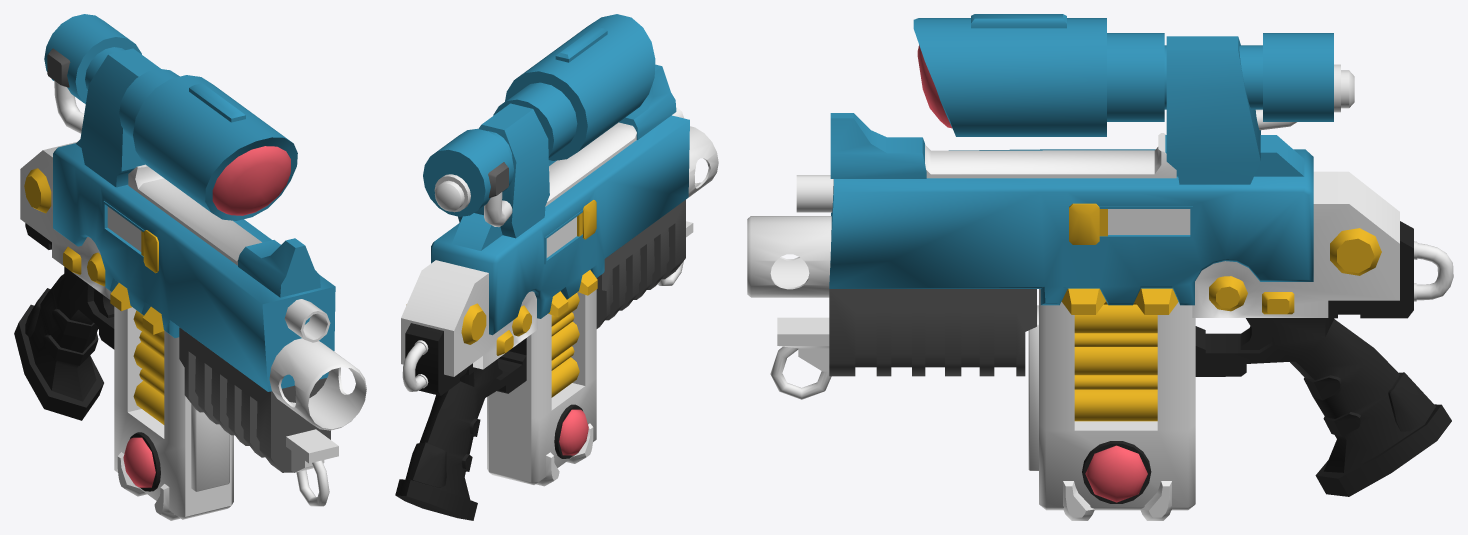
Rendered from Miscellaneuous Toy (Toy Gun).fbx.
3 views of the same model, side by side, from view 1: azimuth 30°, elevation 25°; view 2: azimuth 150°, elevation 25°; view 3: azimuth 270°, elevation 25° (orthographic). The views are drawn at different scales.
Visible parts, largest first — view 1: Bolter; view 2: Bolter; view 3: Bolter.
Part boxes in pixels (box(x1,y1,x2,y2)): Bolter: box(14, 14, 366, 520); Bolter: box(395, 14, 718, 520); Bolter: box(747, 14, 1453, 520).
Bounding box in the file's own units: 5.05 × 22.97 × 29.89.
Materials: 1 (1 with a texture image).
